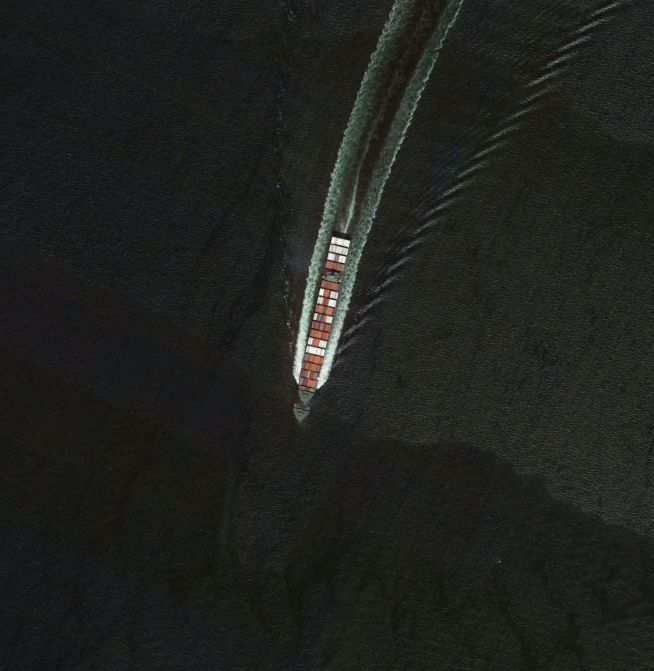boat: (292, 229, 357, 411)
